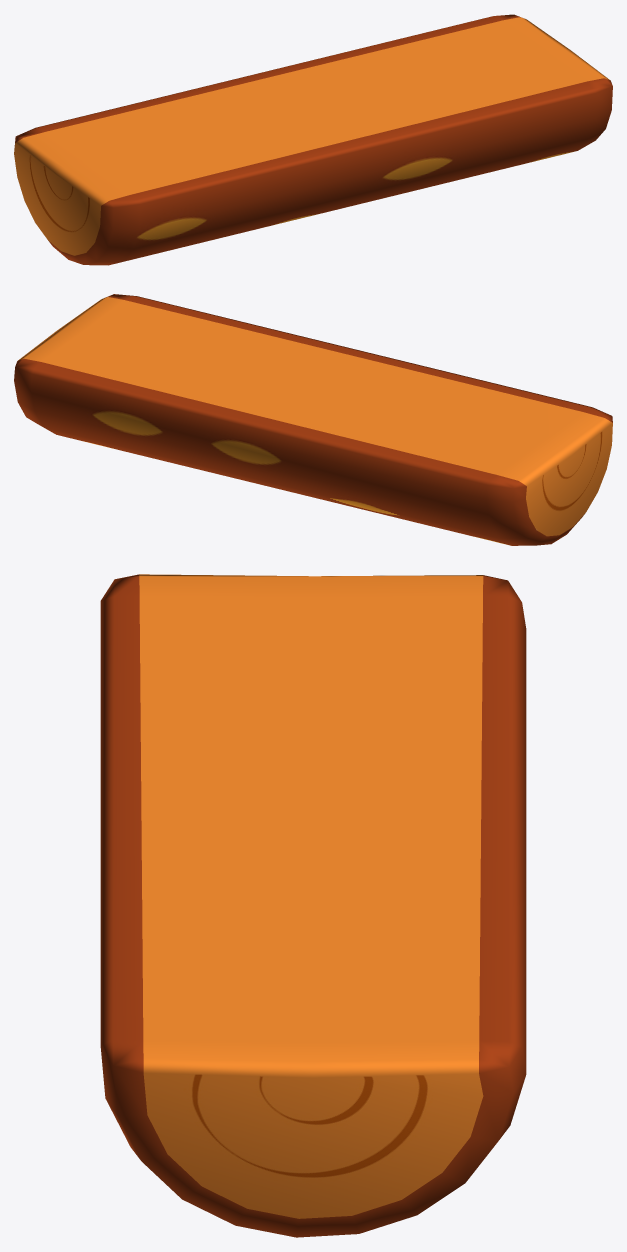
File: LogCut.fbx
3 views of the same model, one above another, from view 1: azimuth 30°, elevation 25°; view 2: azimuth 150°, elevation 25°; view 3: azimuth 270°, elevation 25° (orthographic). The views are drawn at different scales.
Visible parts, largest first — view 1: Log; view 2: Log; view 3: Log.
Boxes of the visible parts, x1,y1,x2,y2 form: Log: (14, 14, 612, 265); Log: (14, 294, 612, 545); Log: (100, 574, 526, 1237).
Bounding box in the file's own units: 3.4 × 0.5996 × 1.22.
1 material, 1 textured.
